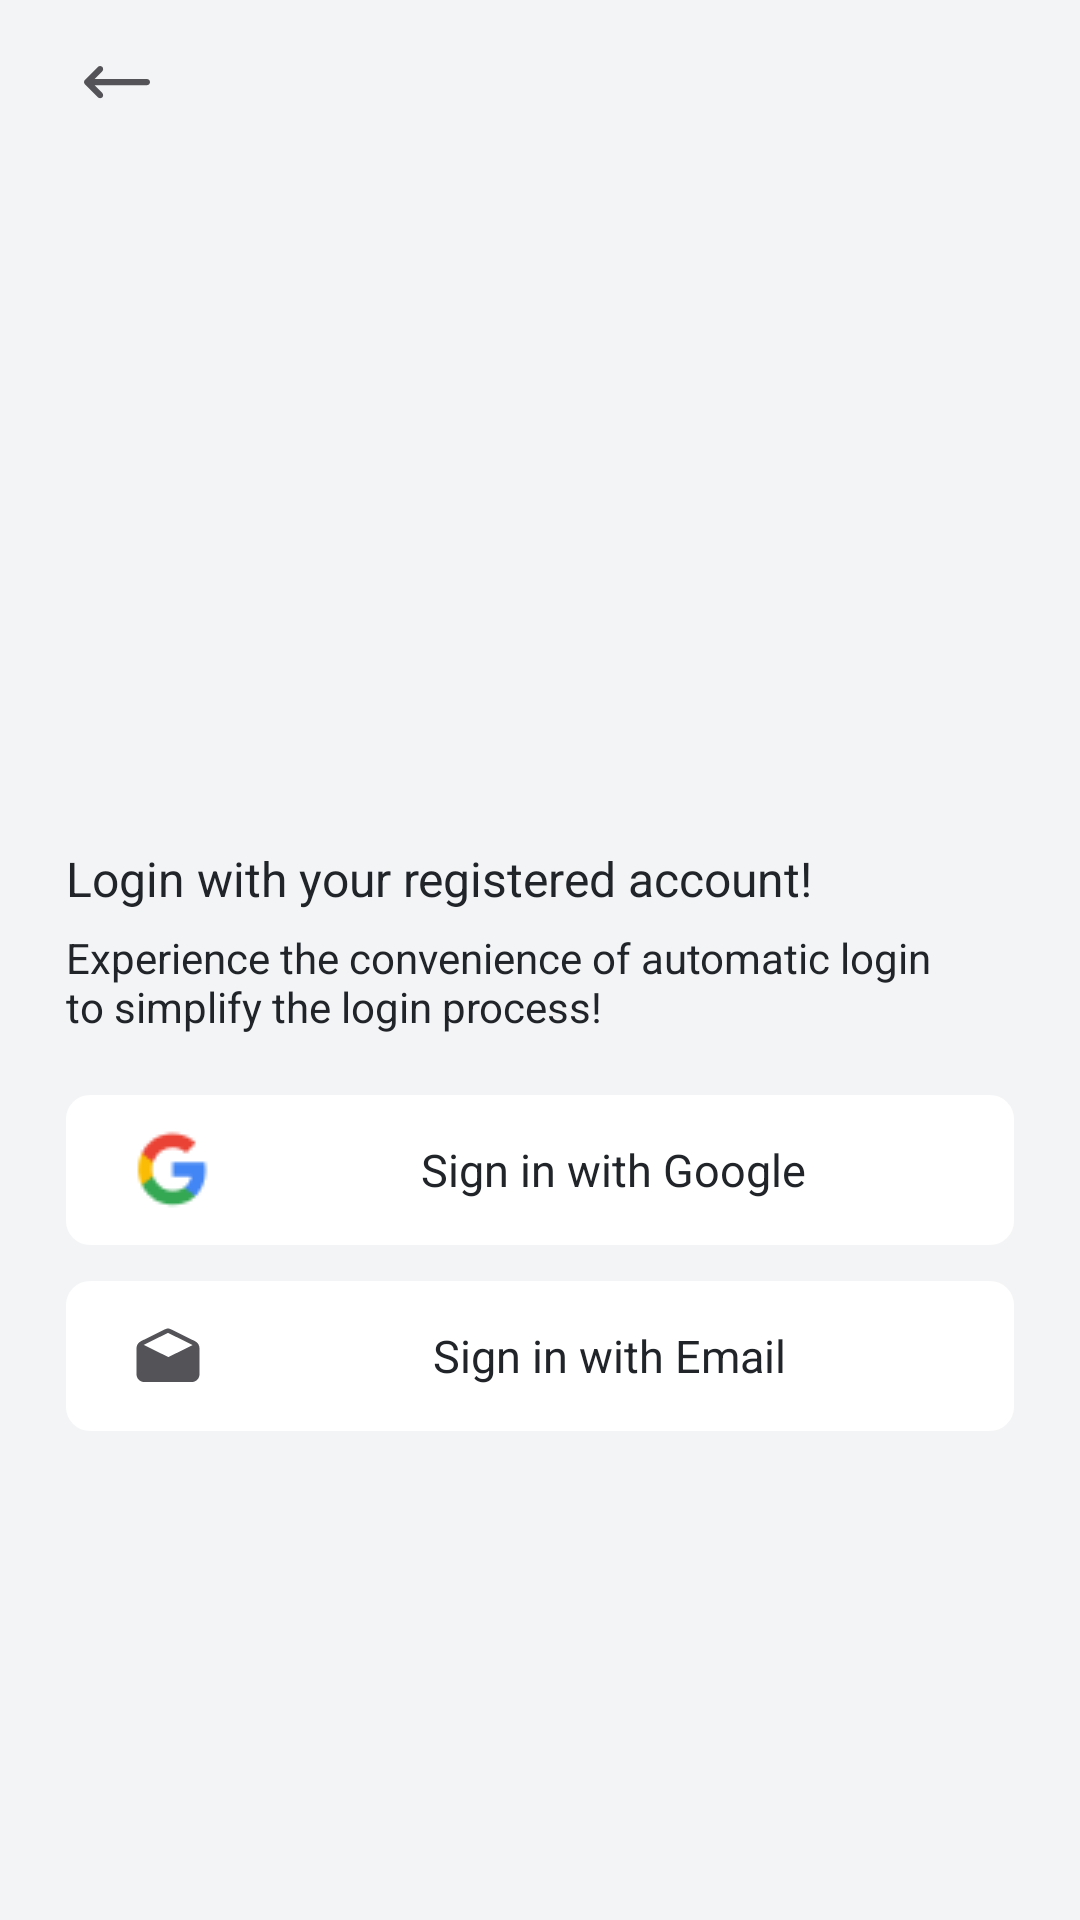

Icon bounding boxes for this 1080x1920 phone screenshot, format (x1, y1, x2, y2):
back: (84, 66, 150, 98)
